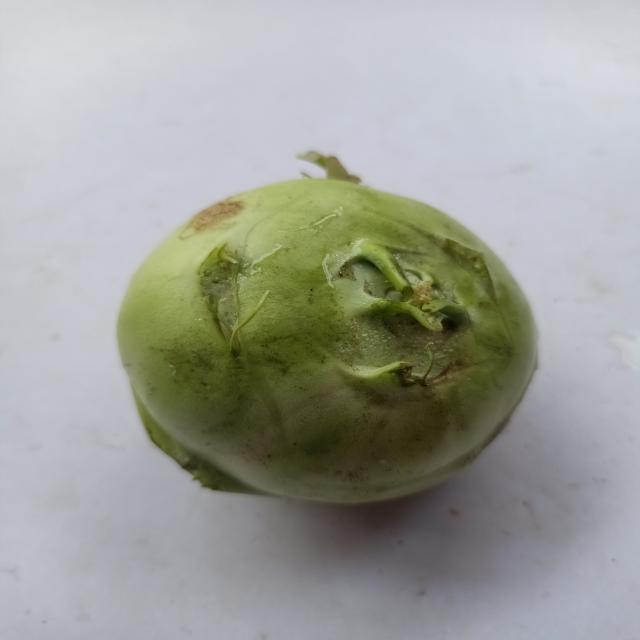Turnip: (109, 127, 569, 561)
